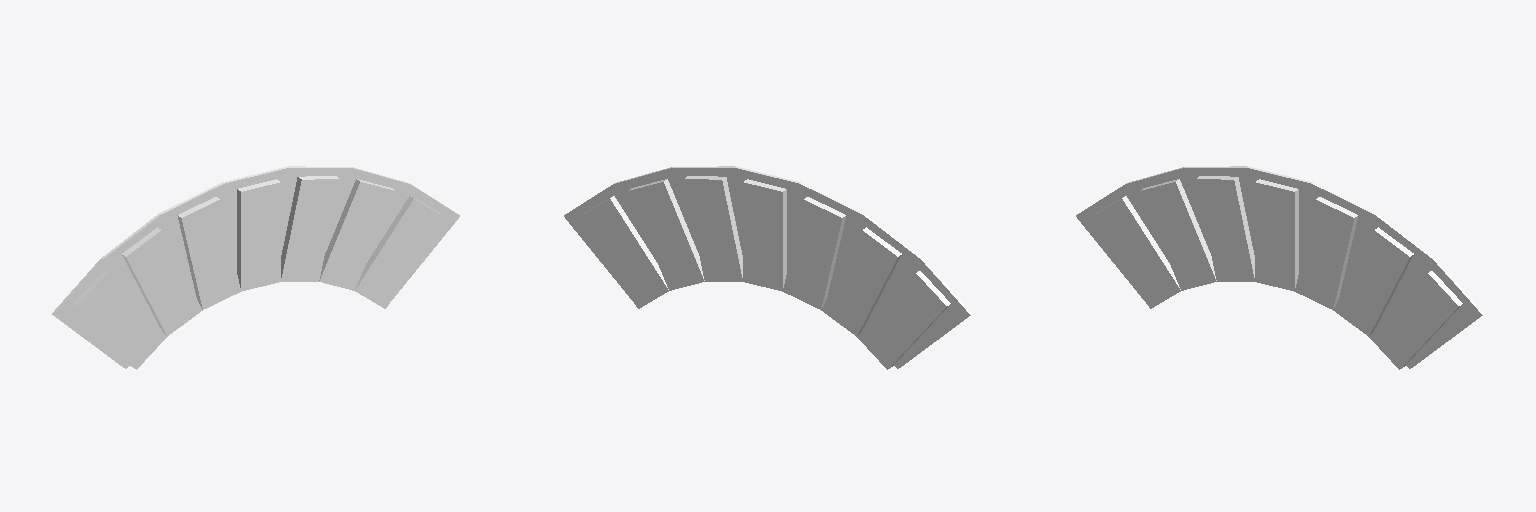
File: lime_mortar_orange_clay_brick_facade_segmental_arch_1_bottom.obj
3 views of the same model, side by side, from view 1: azimuth 30°, elevation 25°; view 2: azimuth 150°, elevation 25°; view 3: azimuth 330°, elevation 25° (orthographic).
Visible parts, largest first — view 1: arch_1, arch_1_inner; view 2: arch_1, arch_1_inner; view 3: arch_1, arch_1_inner.
Boxes of the visible parts, x1,y1,x2,y2 form: arch_1: [73, 176, 444, 369]; arch_1_inner: [52, 166, 459, 368]; arch_1: [579, 176, 950, 369]; arch_1_inner: [564, 166, 971, 368]; arch_1: [1091, 176, 1462, 369]; arch_1_inner: [1076, 166, 1483, 368].
Bounding box in the file's own units: 1.6 × 0.6082 × 0.0688.